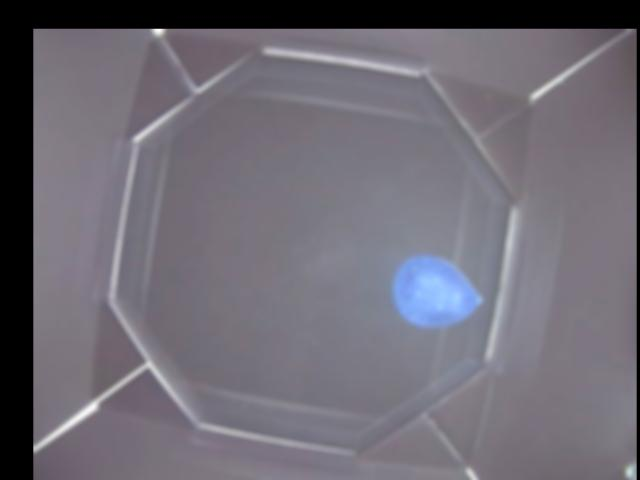Potato: (392, 255, 483, 329)
